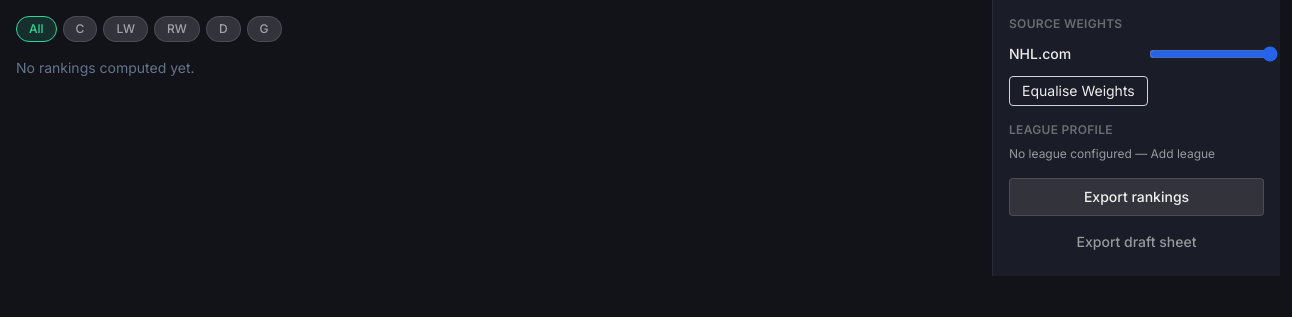
Test: PreDraftWorkspace › prompts sign-in for unauthenticated export failures
This screenshot has width=1292, height=317.
What coordinates should you click on to do the following:
click the button "Export rankings"
I would click on:
 (1136, 197)
Its box is [1009,178,1264,216].
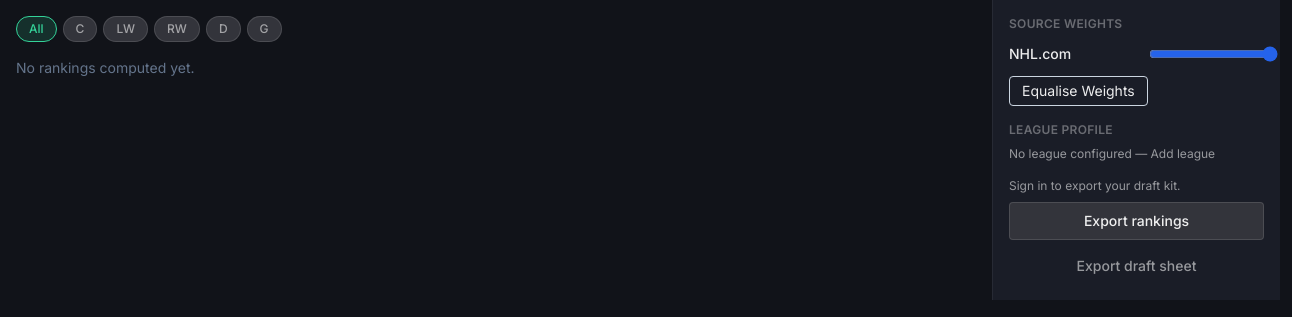
Check: the text "Sign in to export your draft kit." is shown, box [1009,178,1180,193]
